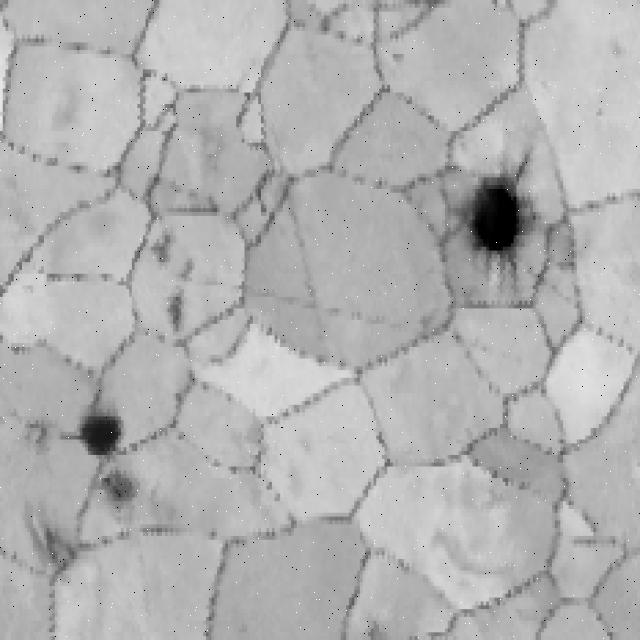good_void: (459, 166, 534, 264), (19, 497, 86, 592), (76, 404, 133, 460), (147, 231, 195, 291), (96, 466, 143, 515), (22, 414, 54, 463), (589, 81, 616, 126), (380, 39, 413, 74), (167, 294, 187, 332), (255, 186, 270, 219)
